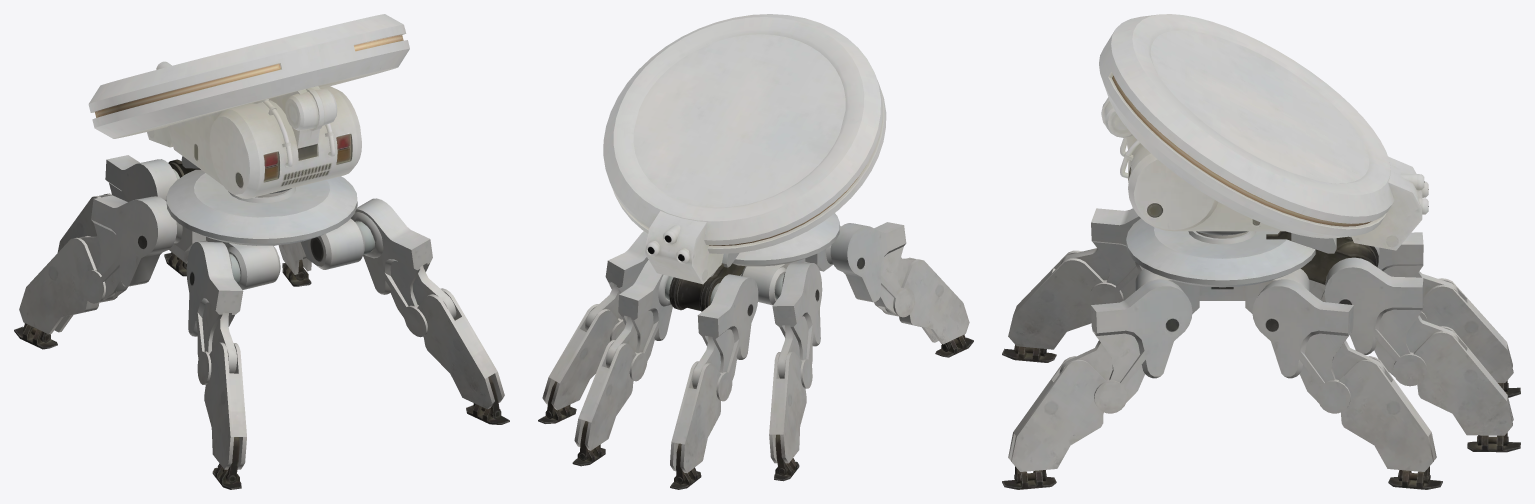
The model's file is Drone.glb.
3 views of the same model, side by side, from view 1: azimuth 30°, elevation 25°; view 2: azimuth 150°, elevation 25°; view 3: azimuth 270°, elevation 25° (orthographic). The views are drawn at different scales.
Parts seen in each view (by area): view 1: body.001, head.001, stripe.001; view 2: head.001, body.001; view 3: body.001, head.001, stripe.001.
Part boxes in pixels (<box>): body.001: <box>14,155,509,489</box>; head.001: <box>88,14,409,198</box>; stripe.001: <box>95,34,403,117</box>; head.001: <box>603,14,886,284</box>; body.001: <box>538,213,973,489</box>; body.001: <box>1002,208,1520,489</box>; head.001: <box>1099,14,1428,250</box>; stripe.001: <box>1112,75,1371,226</box>.
Bounding box in the file's own units: 2.86 × 3.68 × 4.53.
Materials: 3 (3 with a texture image).
